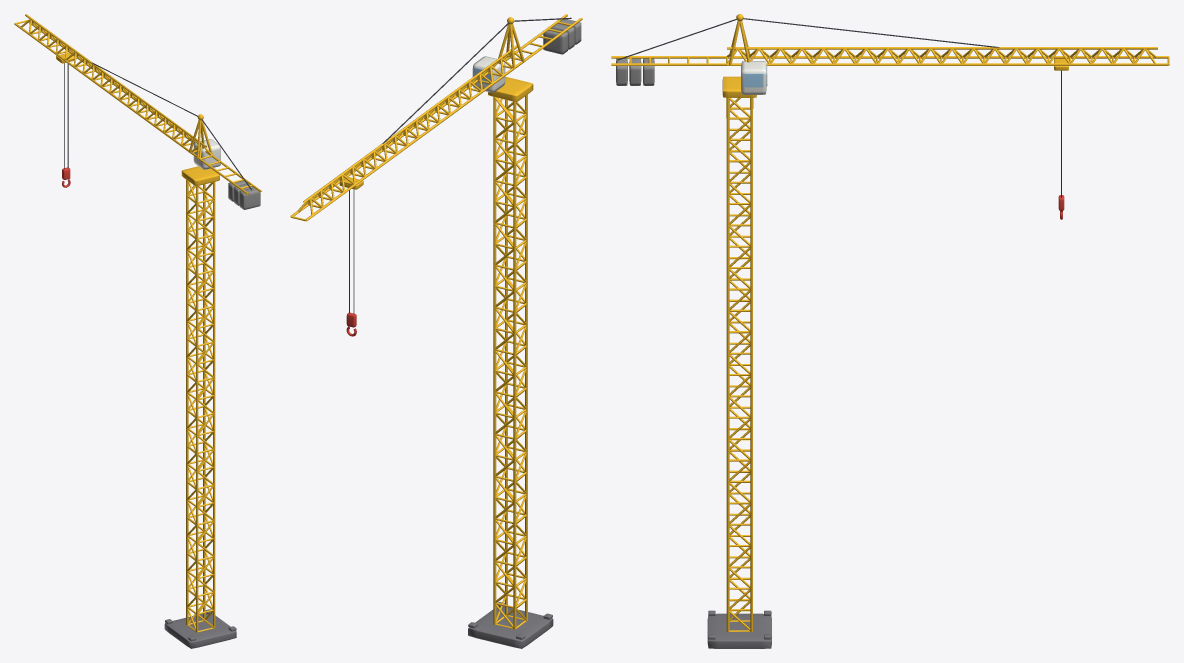
File: SkyStackCrane.obj
The picture shows the model from 3 angles, left to right: view 1: azimuth 30°, elevation 25°; view 2: azimuth 150°, elevation 25°; view 3: azimuth 270°, elevation 25°; orthographic projection. The views are drawn at different scales.
Parts seen in each view (by area): view 1: Mast, Jib, Footing, Counter, Cable, Cab; view 2: Mast, Jib, Footing, Counter, Cable, Cab; view 3: Mast, Jib, Footing, Counter, Cable.
Boxes of the visible parts, left/top/right/bottom form: Mast: left=186, top=114, right=215, bottom=632; Jib: left=14, top=14, right=261, bottom=195; Footing: left=164, top=609, right=236, bottom=648; Counter: left=228, top=180, right=260, bottom=209; Cable: left=64, top=62, right=251, bottom=190; Cab: left=193, top=139, right=220, bottom=169; Mast: left=493, top=17, right=527, bottom=629; Jib: left=290, top=14, right=582, bottom=221; Footing: left=468, top=602, right=553, bottom=648; Counter: left=543, top=19, right=581, bottom=54; Cable: left=349, top=17, right=571, bottom=314; Cab: left=472, top=56, right=505, bottom=92; Mast: left=726, top=14, right=753, bottom=632; Jib: left=611, top=47, right=1169, bottom=97; Footing: left=707, top=610, right=771, bottom=648; Counter: left=616, top=58, right=654, bottom=85; Cable: left=617, top=18, right=1061, bottom=197.
Bounding box in the file's own units: 6 × 64 × 52.1.
